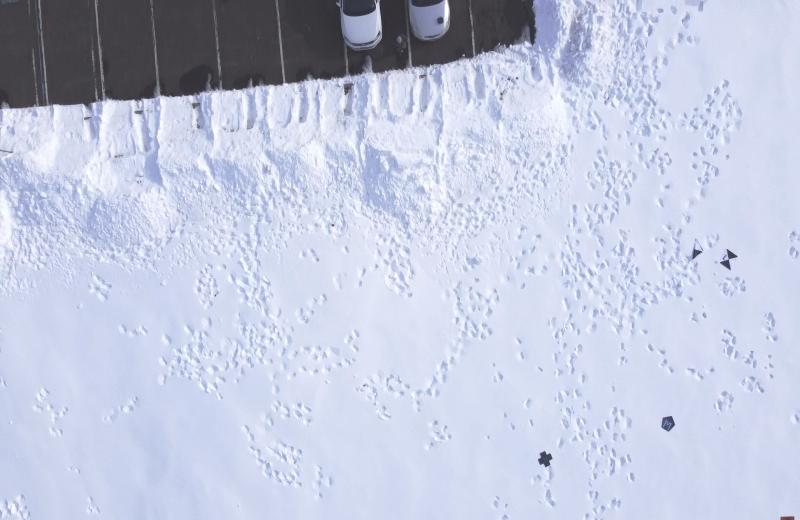Cross: (536, 449, 554, 468)
Pentagon: (660, 414, 676, 432)
Rectangle: (778, 513, 796, 520)
